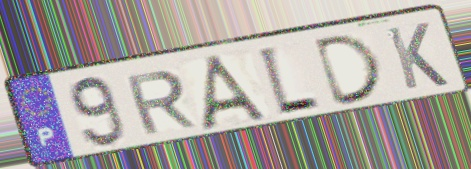9: (69, 72, 131, 153)
A: (198, 51, 276, 132)
D: (311, 30, 388, 110)
K: (382, 20, 452, 93)
L: (254, 44, 324, 120)
R: (121, 68, 200, 138)
